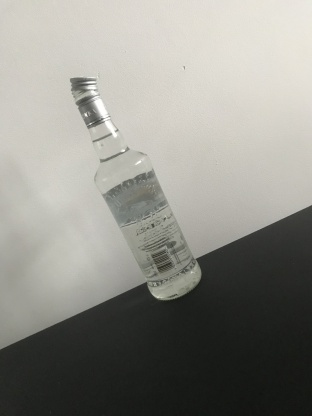nakretka: (68, 74, 111, 130)
